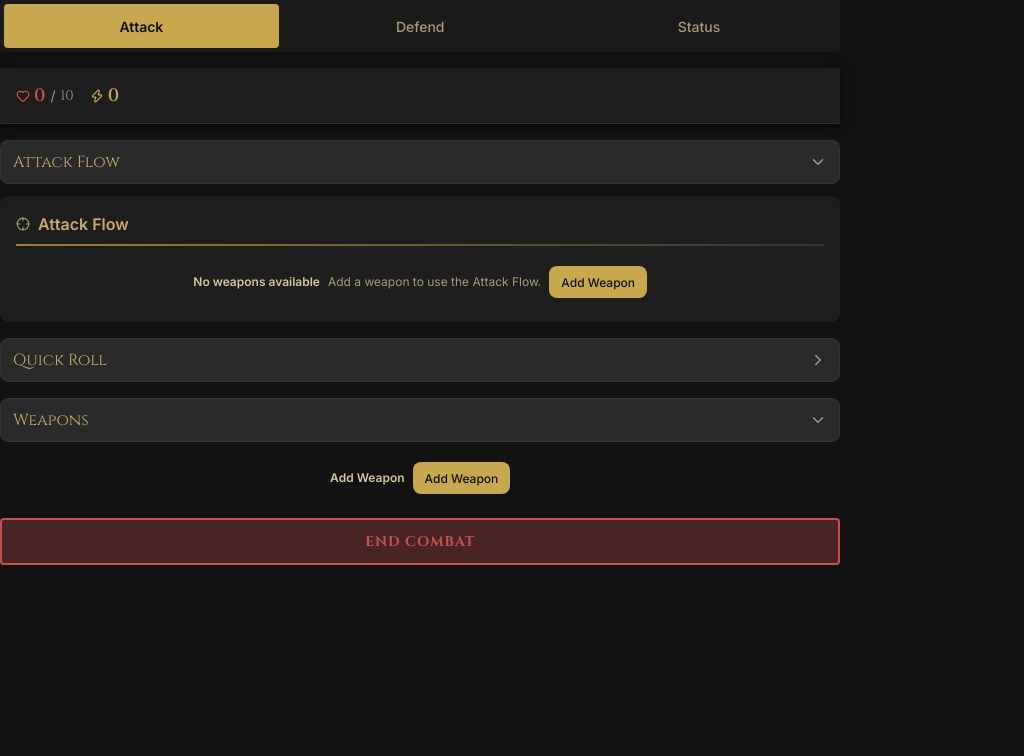
Scenario: CombatPage contextual visibility - Ammo Tracker › shows Ammo Tracker section when character has ammo items
Ammo Tracker is in Status mode
What coordinates should you click on to do the following:
click the tab "Status"
I would click on:
 (699, 26)
Its box is 562,4 -> 836,48.
(page scrolled)
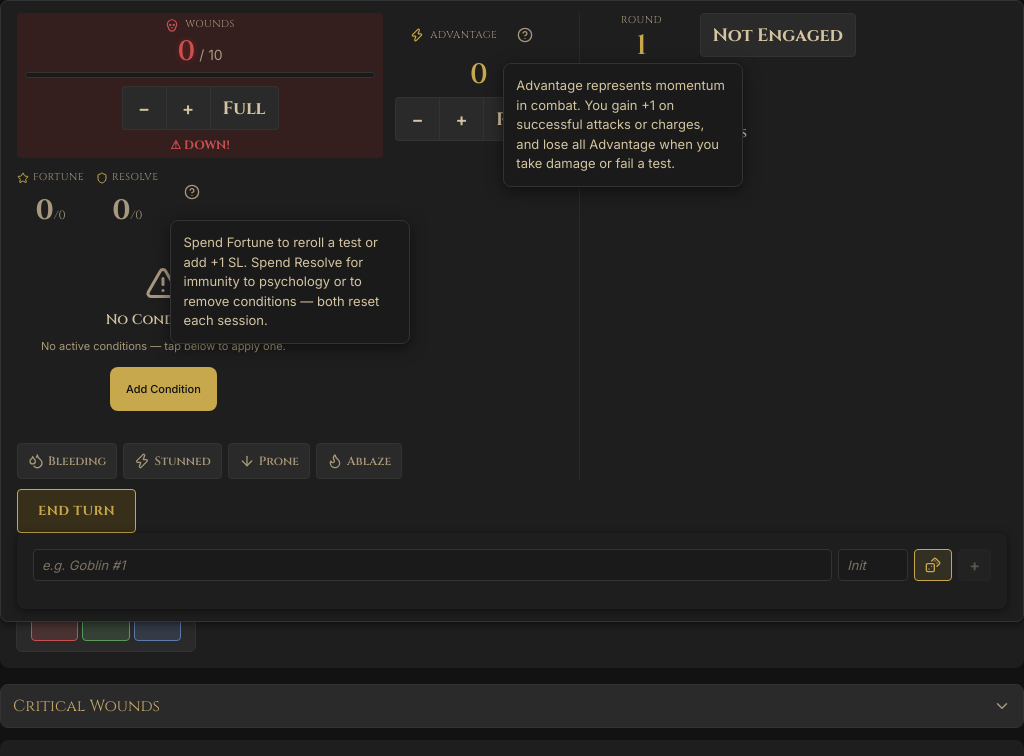
Result: the text "Ammo Tracker" is shown at 13,372 -> 139,394
